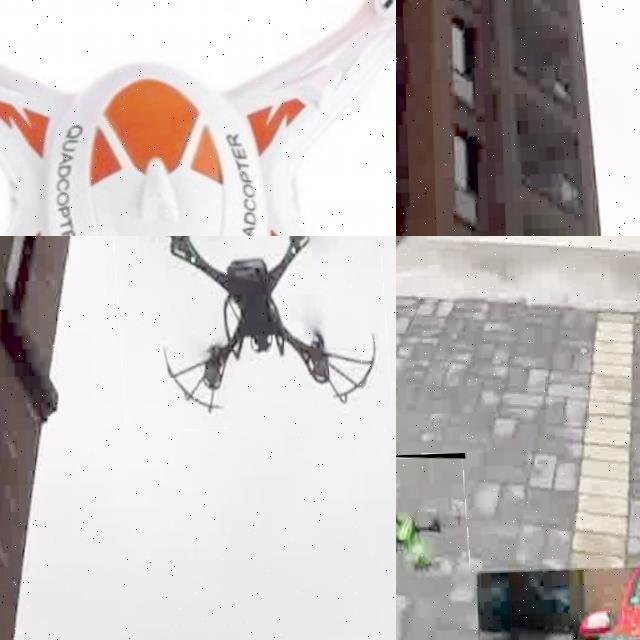0: (110, 236, 389, 430), (396, 452, 470, 594)
drone: (0, 0, 396, 236)
